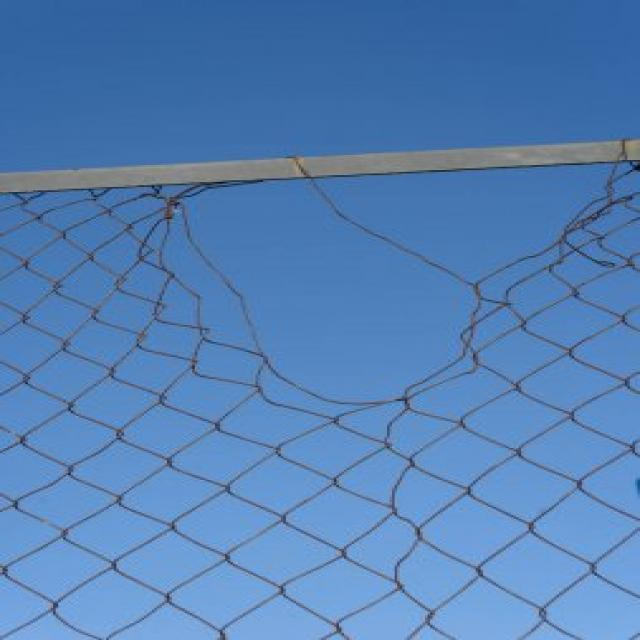fence line: (157, 161, 627, 417)
